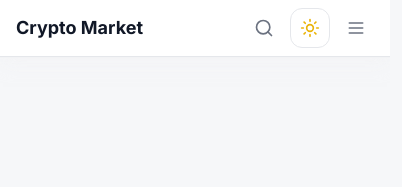
Test: Responsive Layout Tests › Header Component › closes mobile menu when close button clicked
// Open menu
What coordinates should you click on to do the following:
click the button named "Open menu"
I would click on:
 (356, 28)
Its box is [338,10,374,46].
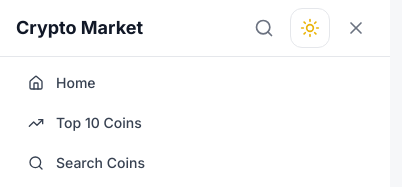
Result: the button named "Close menu" is shown
// Close menu
What coordinates should you click on to do the following:
click the button named "Close menu"
I would click on:
 (356, 28)
Its box is [338,10,374,46].
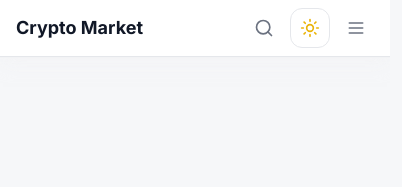
Result: the button named "Open menu" is shown at [338,10,374,46]
